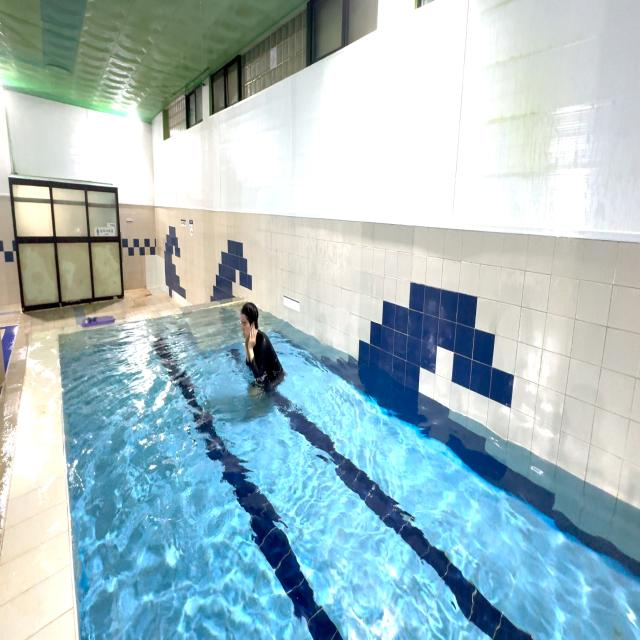Swimming: (237, 297, 289, 398)
